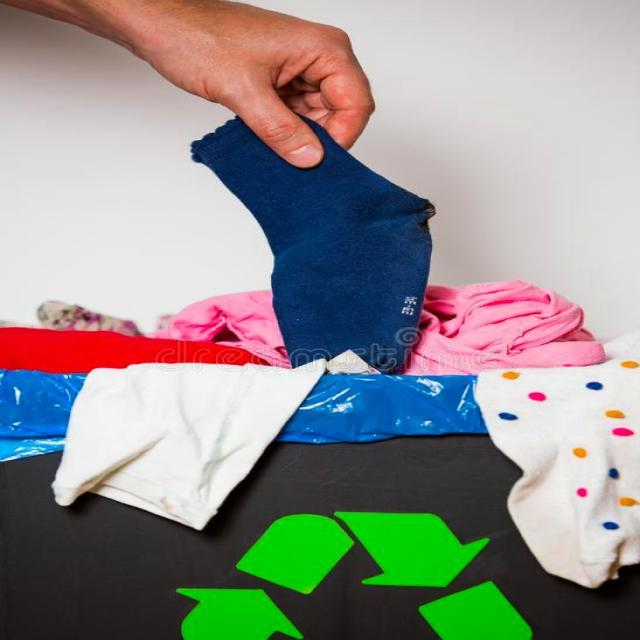clothes: (198, 165, 472, 388)
